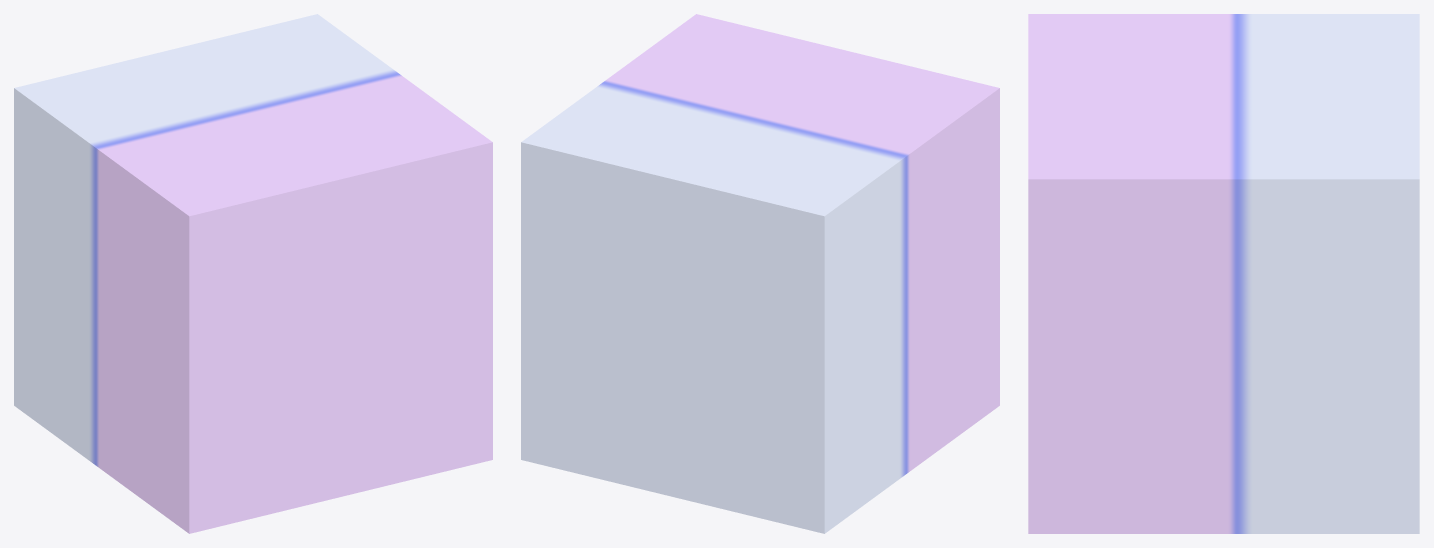
The model's file is Glasses-Scene.glb.
The picture shows the model from 3 angles, left to right: view 1: azimuth 30°, elevation 25°; view 2: azimuth 150°, elevation 25°; view 3: azimuth 270°, elevation 25°; orthographic projection. The views are drawn at different scales.
Visible parts, largest first — view 1: Glasses Scene; view 2: Glasses Scene; view 3: Glasses Scene.
Part boxes in pixels (x1,y1,x2,y2): Glasses Scene: (14, 14, 492, 533); Glasses Scene: (521, 14, 999, 533); Glasses Scene: (1028, 14, 1419, 533).
Size of the model in its own units: 79.07 by 79.07 by 79.07.
1 material, 1 textured.
